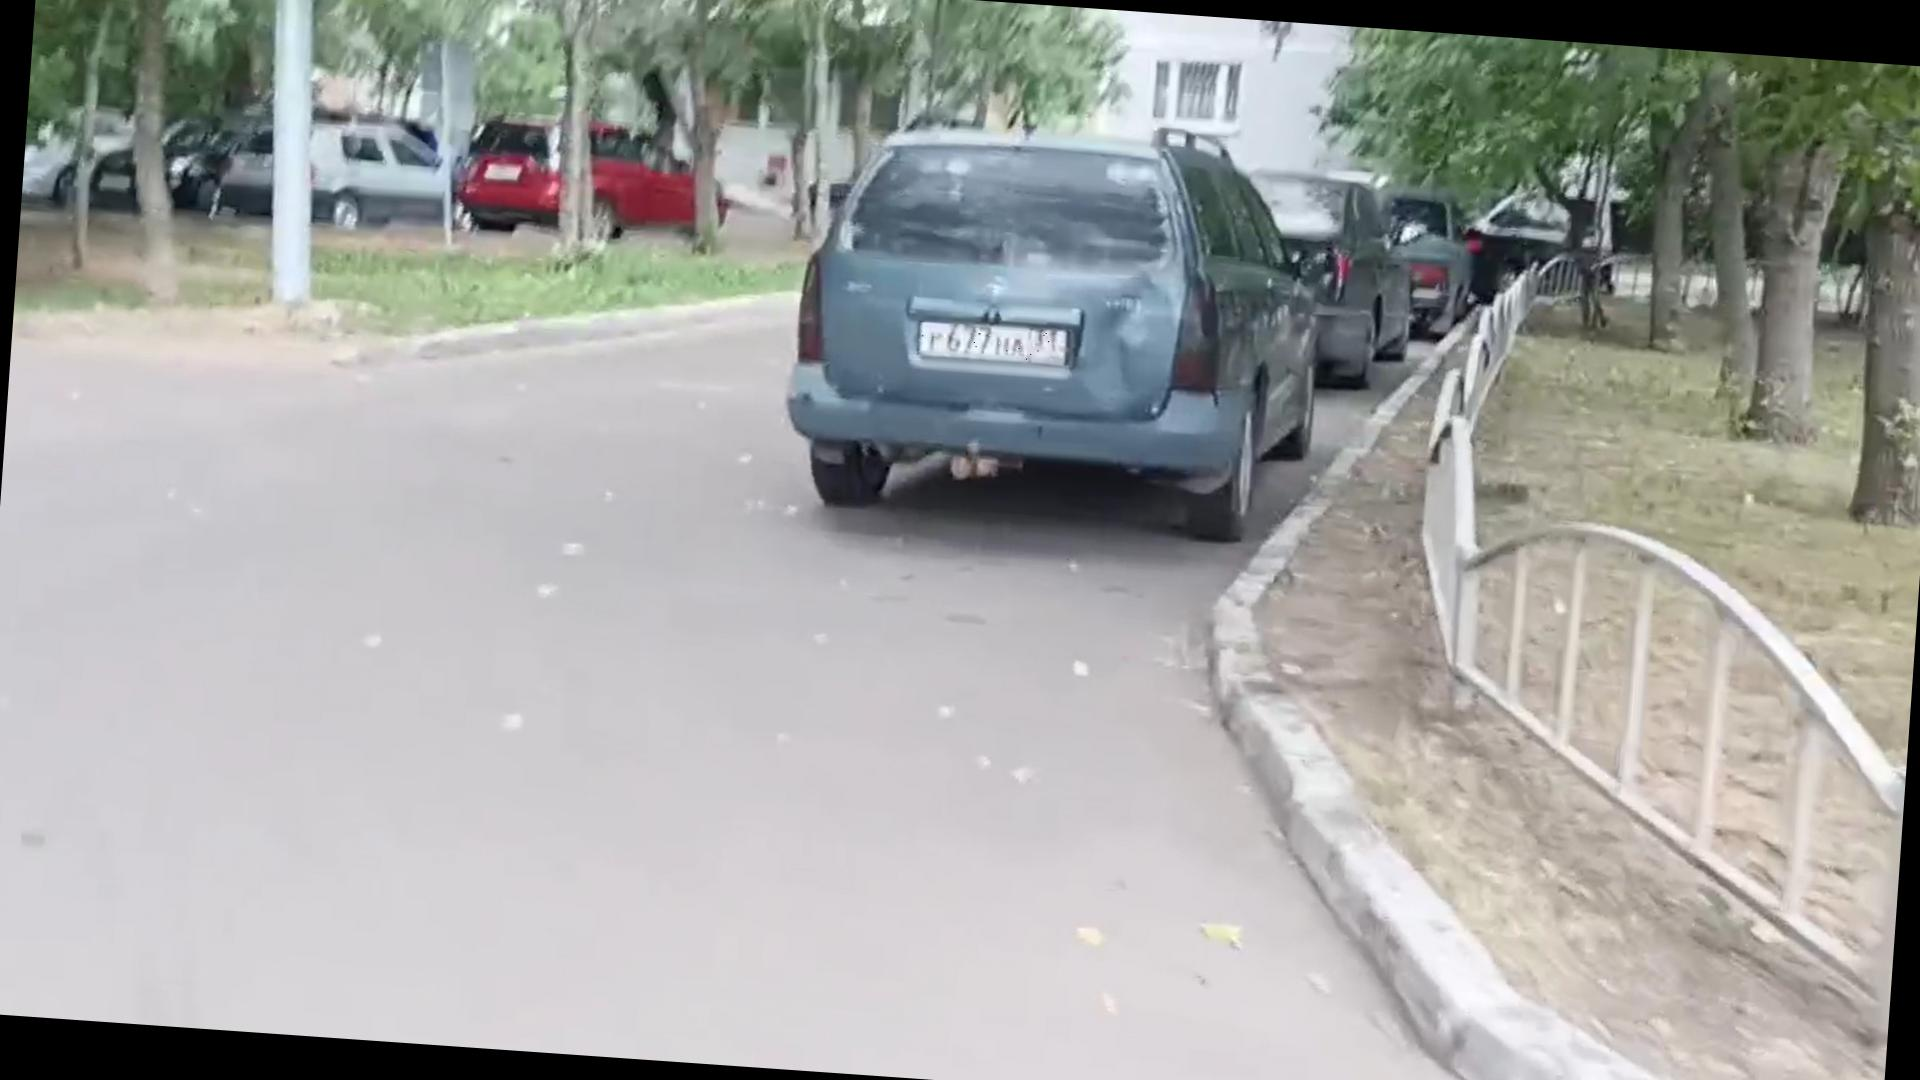plate: (919, 324, 1063, 364)
